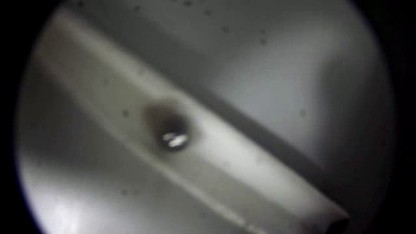gangzhu: (155, 119, 188, 149)
